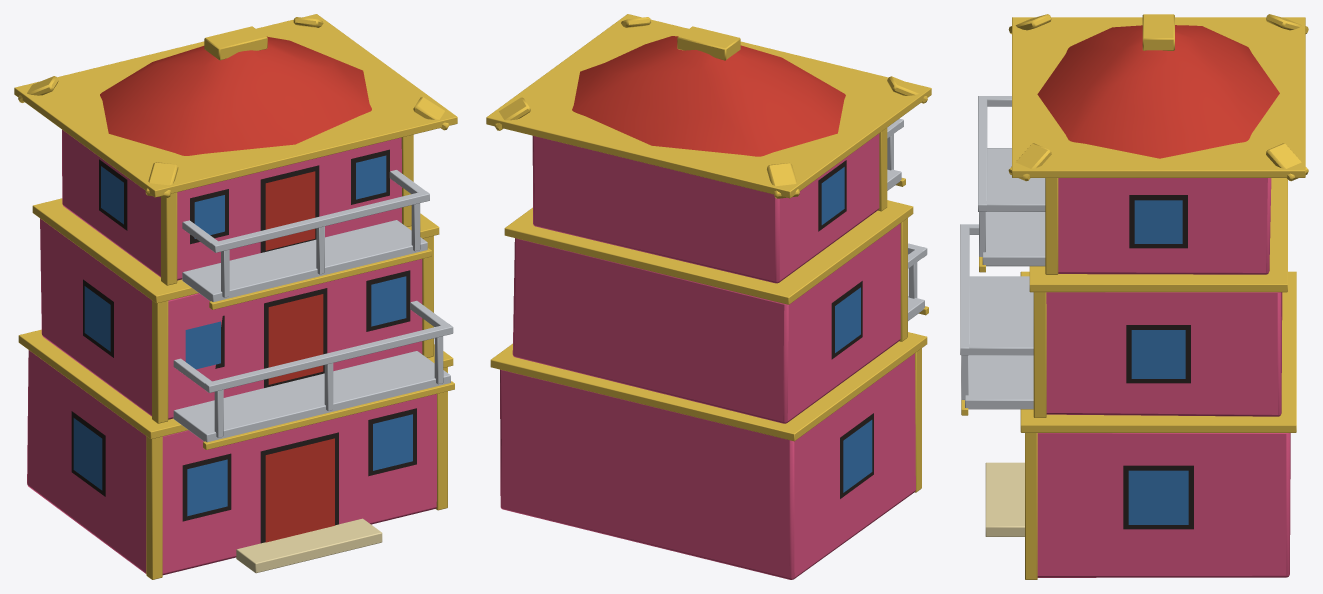
Rendered from SM_PaperHouse.glb.
3 views of the same model, side by side, from view 1: azimuth 30°, elevation 25°; view 2: azimuth 150°, elevation 25°; view 3: azimuth 270°, elevation 25° (orthographic). The views are drawn at different scales.
Visible parts, largest first — view 1: SM_PaperHouse; view 2: SM_PaperHouse; view 3: SM_PaperHouse.
Boxes of the visible parts, <box> form: SM_PaperHouse: <box>14,14,457,579</box>; SM_PaperHouse: <box>486,14,931,579</box>; SM_PaperHouse: <box>960,14,1308,579</box>.
Bounding box in the file's own units: 0.629 × 0.9002 × 0.5935.
